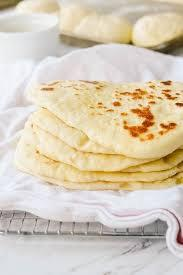Naan: (17, 76, 182, 191)
